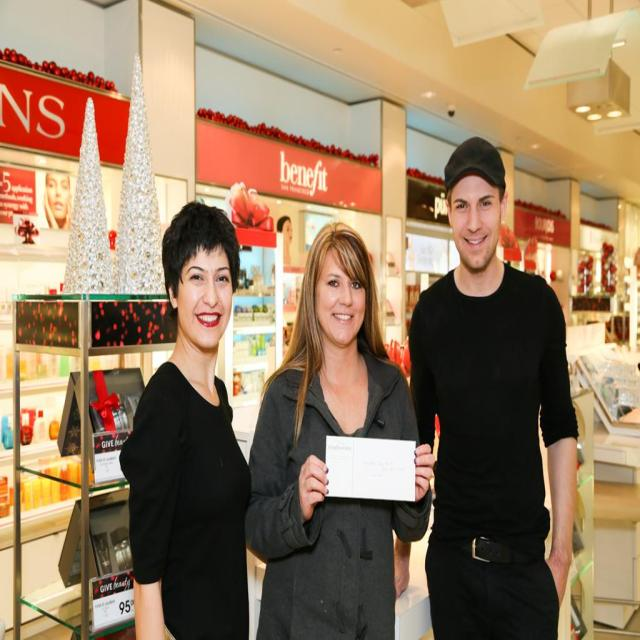Face: (310, 237, 371, 345), (174, 248, 233, 353), (453, 169, 504, 271)
